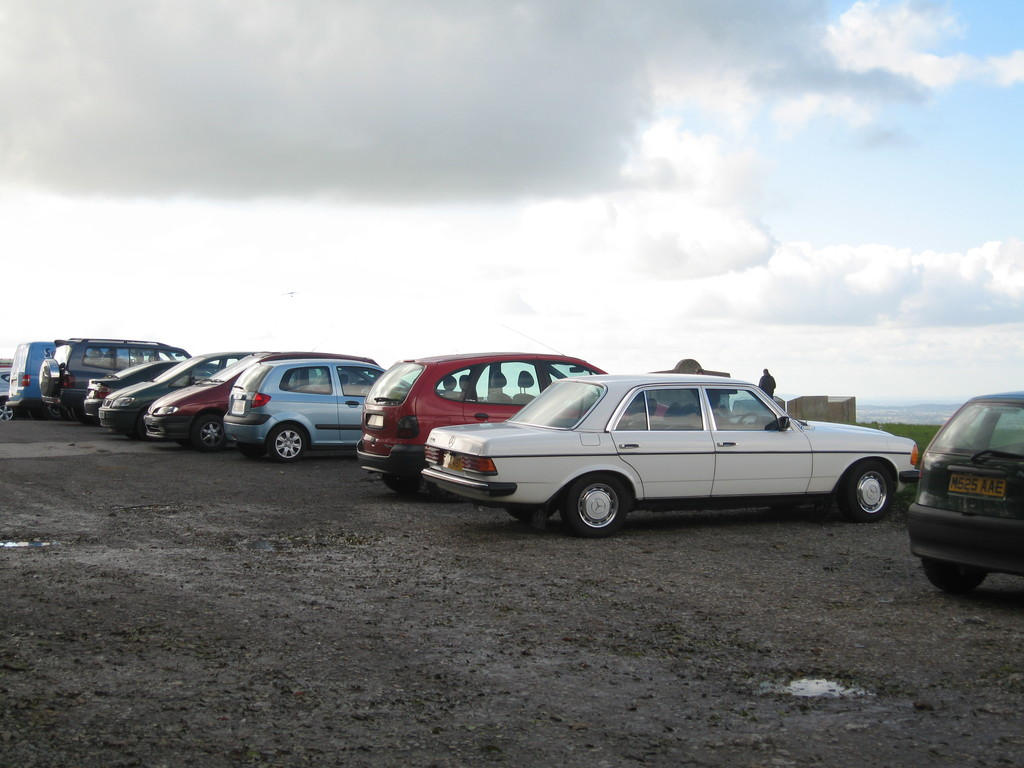Car: (0, 330, 1023, 590)
